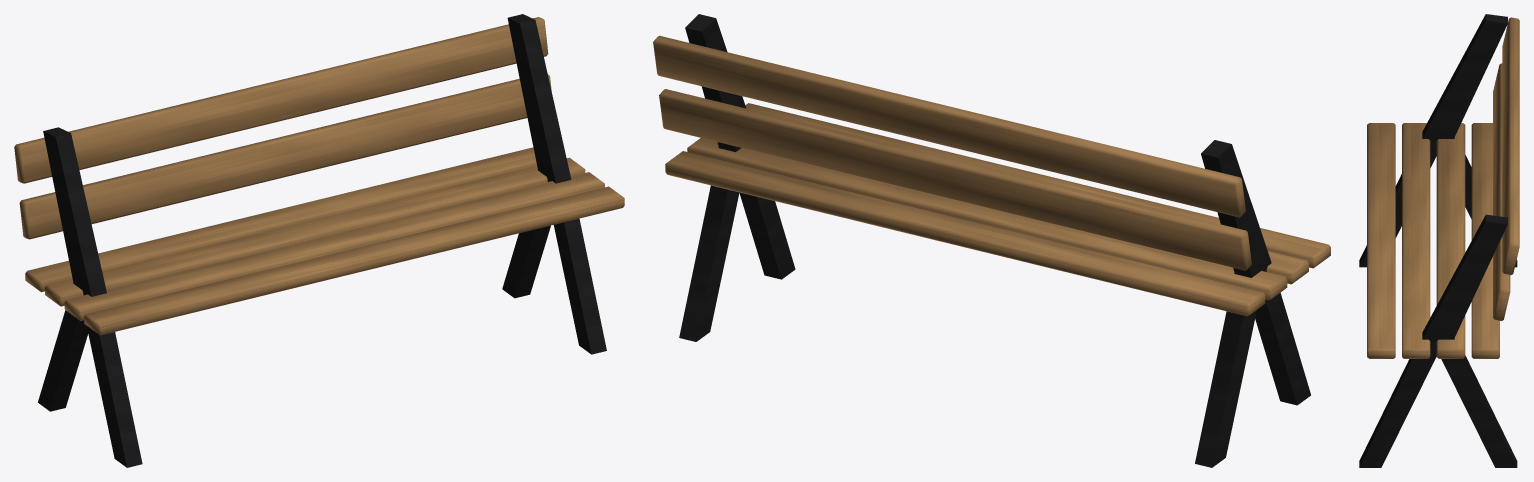
The model's file is banco_praca.glb.
The picture shows the model from 3 angles, left to right: view 1: azimuth 30°, elevation 25°; view 2: azimuth 150°, elevation 25°; view 3: azimuth 270°, elevation 25°; orthographic projection. The views are drawn at different scales.
Parts seen in each view (by area): view 1: Inteiro, Peca_00, Peca_03, Peca_01; view 2: Inteiro, Peca_01, Peca_03; view 3: Inteiro, Peca_00, Peca_02, Peca_01.
Part boxes in pixels (x1,y1,x2,y2): Inteiro: (14,14,624,467); Peca_00: (502,18,606,354); Peca_03: (26,161,584,302); Peca_01: (39,129,137,464); Inteiro: (653,14,1330,466); Peca_01: (1195,144,1310,467); Peca_03: (693,138,1079,230); Inteiro: (1359,14,1519,467); Peca_00: (1359,215,1516,467); Peca_02: (1402,123,1428,358); Peca_01: (1359,14,1517,266).
Bounding box in the file's own units: 1.7 × 0.86 × 0.5073.
1 material, 1 textured.
